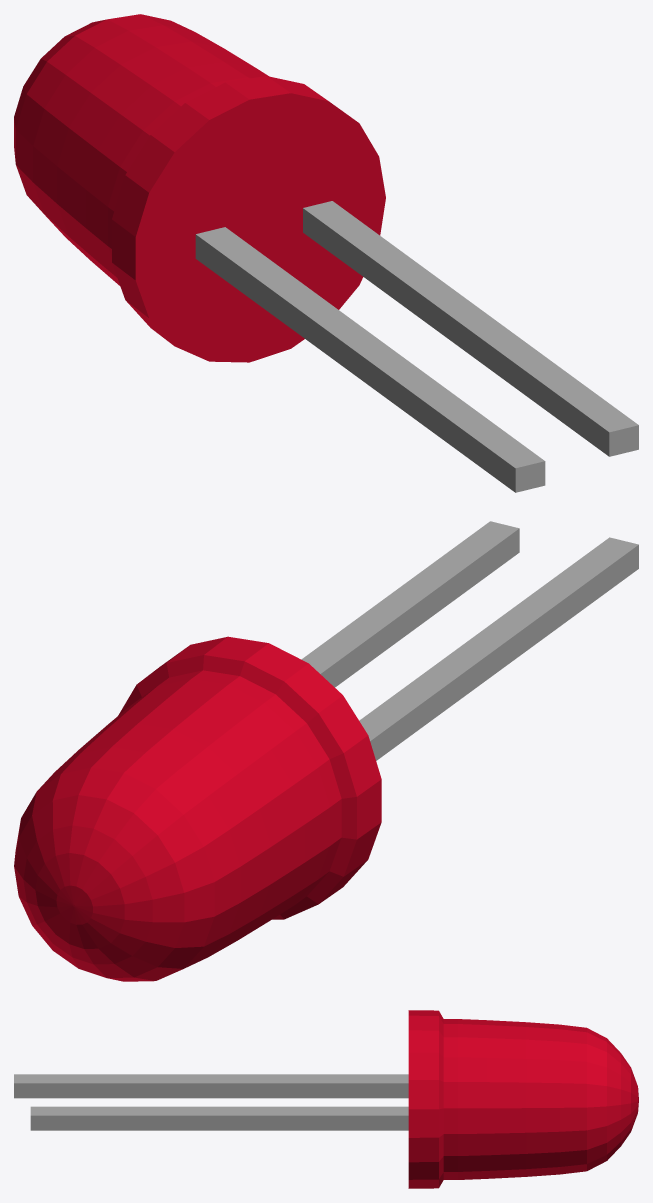
Rendered from led.fbx.
The picture shows the model from 3 angles, top to bottom: view 1: azimuth 30°, elevation 25°; view 2: azimuth 150°, elevation 25°; view 3: azimuth 270°, elevation 25°; orthographic projection. The views are drawn at different scales.
Parts seen in each view (by area): view 1: Plane.001, Plane; view 2: Plane.001, Plane; view 3: Plane.001, Plane.
Boxes of the visible parts, x1,y1,x2,y2 form: Plane.001: (14,14,385,362); Plane: (195,201,638,492); Plane.001: (14,636,381,981); Plane: (301,521,638,760); Plane.001: (408,1010,638,1188); Plane: (14,1074,408,1130).
Size of the model in its own units: 214 by 215 by 749.
